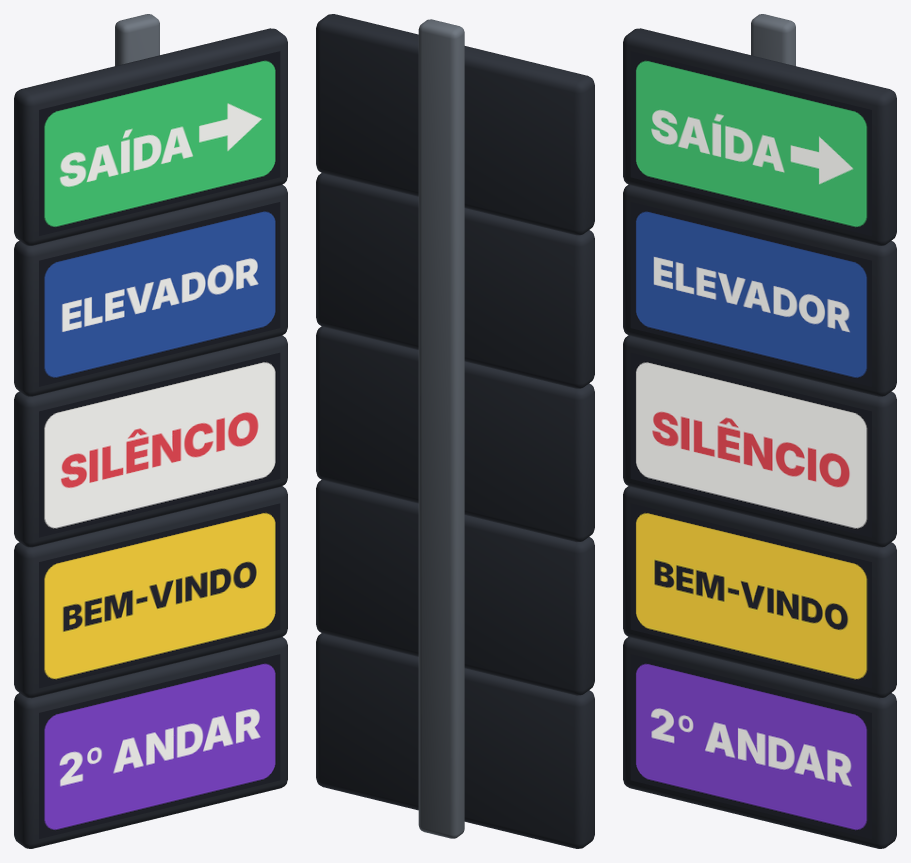
File: avisos_pilha.glb
The picture shows the model from 3 angles, left to right: view 1: azimuth 30°, elevation 25°; view 2: azimuth 150°, elevation 25°; view 3: azimuth 330°, elevation 25°; orthographic projection.
Visible parts, largest first — view 1: avisos_pilha; view 2: avisos_pilha; view 3: avisos_pilha.
Part boxes in pixels (x1,y1,x2,y2): avisos_pilha: [14, 14, 287, 848]; avisos_pilha: [316, 14, 594, 848]; avisos_pilha: [623, 14, 896, 848].
Bounding box in the file's own units: 0.68 × 1.95 × 0.124.
Materials: 2 (2 with a texture image).
